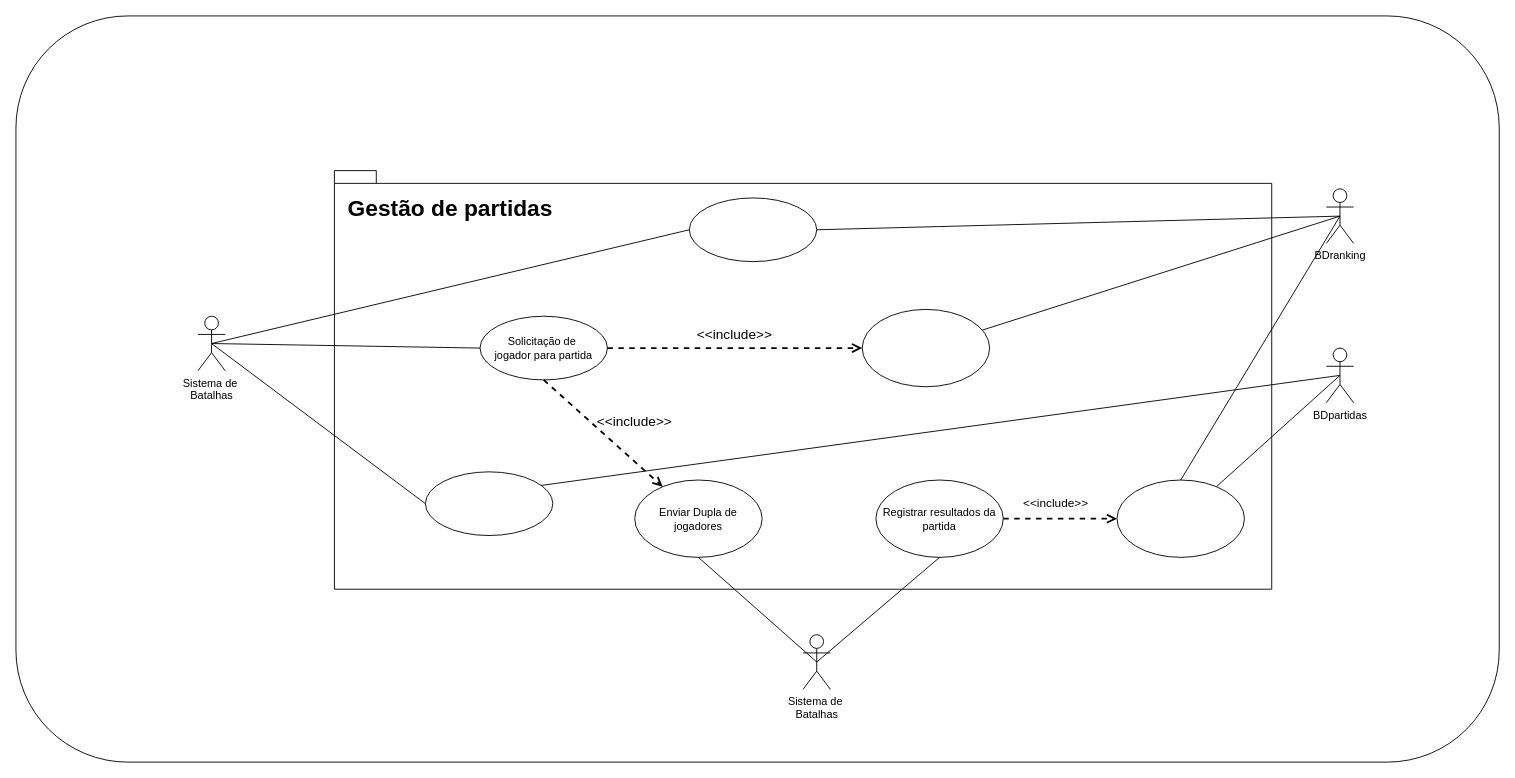
Image size: 1515x778. Some labels were removed from this diagram. Here are the shapes that lost their labels. From the top down, the centre of each, then its label:
At point (752, 229): "Ver pontuação do jogador".
At point (925, 347): "Consultar jogadores disponíveis".
At point (489, 503): "Ver histórico de partidas".
At point (1180, 518): "Atualizar pontuação e histórico".
